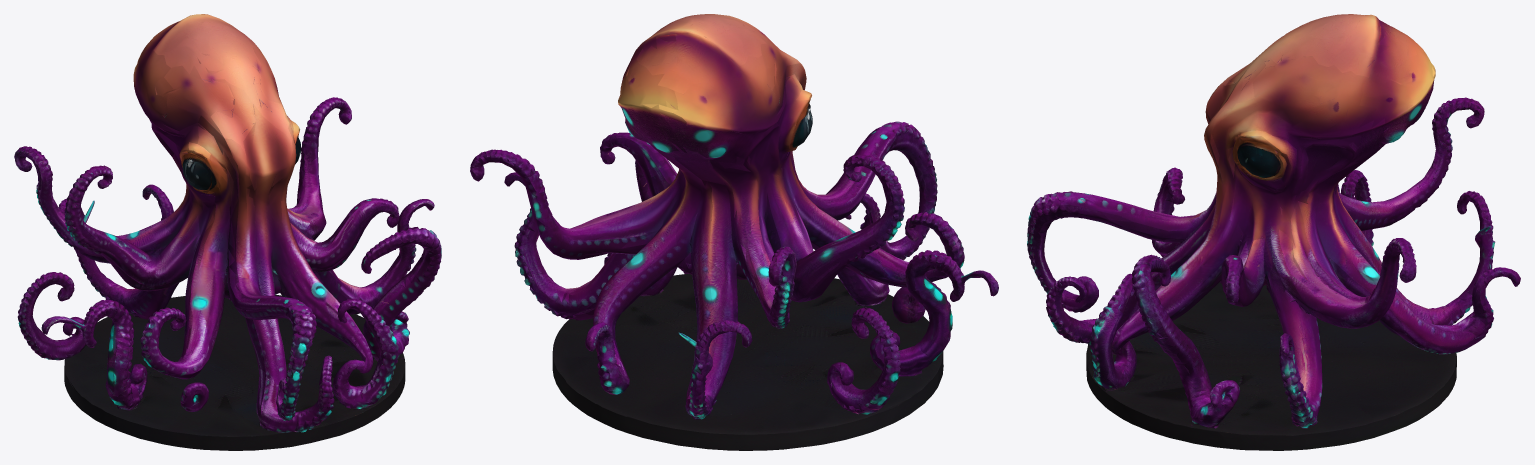
The model's file is bloom_octopus.glb.
3 views of the same model, side by side, from view 1: azimuth 30°, elevation 25°; view 2: azimuth 150°, elevation 25°; view 3: azimuth 270°, elevation 25° (orthographic). The views are drawn at different scales.
Bounding box in the file's own units: 1.9 × 1.45 × 1.82.
Materials: 1 (1 with a texture image).
